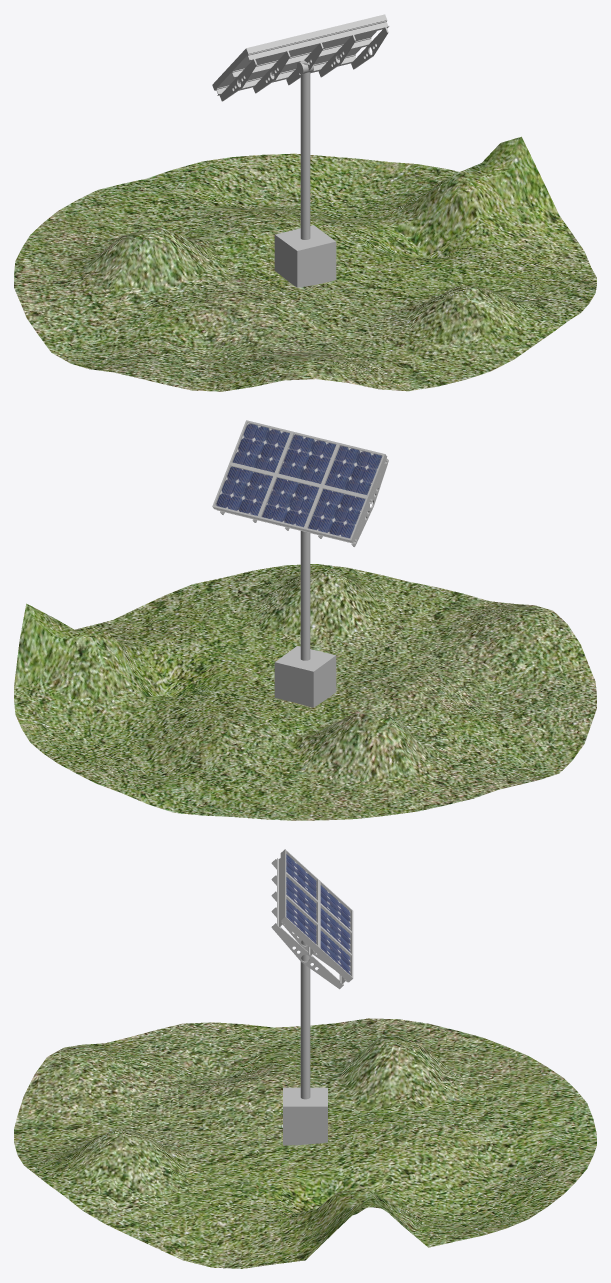
File: solarpanel s.glb
3 views of the same model, one above another, from view 1: azimuth 30°, elevation 25°; view 2: azimuth 150°, elevation 25°; view 3: azimuth 270°, elevation 25° (orthographic).
Visible parts, largest first — view 1: Circle001, Box001_Metall_0, Box002, Cylinder001; view 2: Circle001, Box001_Solpanel_0, Box001_Metall_0, Box002, Cylinder001; view 3: Circle001, Box001_Metall_0, Box001_Solpanel_0, Box002, Cylinder001.
Boxes of the visible parts, left/top/right/bottom form: Circle001: left=14, top=136, right=596, bottom=391; Box001_Metall_0: left=212, top=14, right=389, bottom=101; Box002: left=274, top=225, right=336, bottom=287; Cylinder001: left=300, top=59, right=310, bottom=239; Circle001: left=14, top=564, right=596, bottom=820; Box001_Solpanel_0: left=215, top=423, right=382, bottom=538; Box001_Metall_0: left=212, top=420, right=388, bottom=546; Box002: left=274, top=646, right=336, bottom=707; Cylinder001: left=300, top=531, right=310, bottom=660; Circle001: left=14, top=1018, right=596, bottom=1268; Box001_Metall_0: left=271, top=849, right=353, bottom=989; Box001_Solpanel_0: left=286, top=854, right=350, bottom=974; Box002: left=283, top=1087, right=327, bottom=1145; Cylinder001: left=300, top=940, right=310, bottom=1099.
Bounding box in the file's own units: 4.52 × 2.33 × 4.49.
3 materials, 2 textured.
